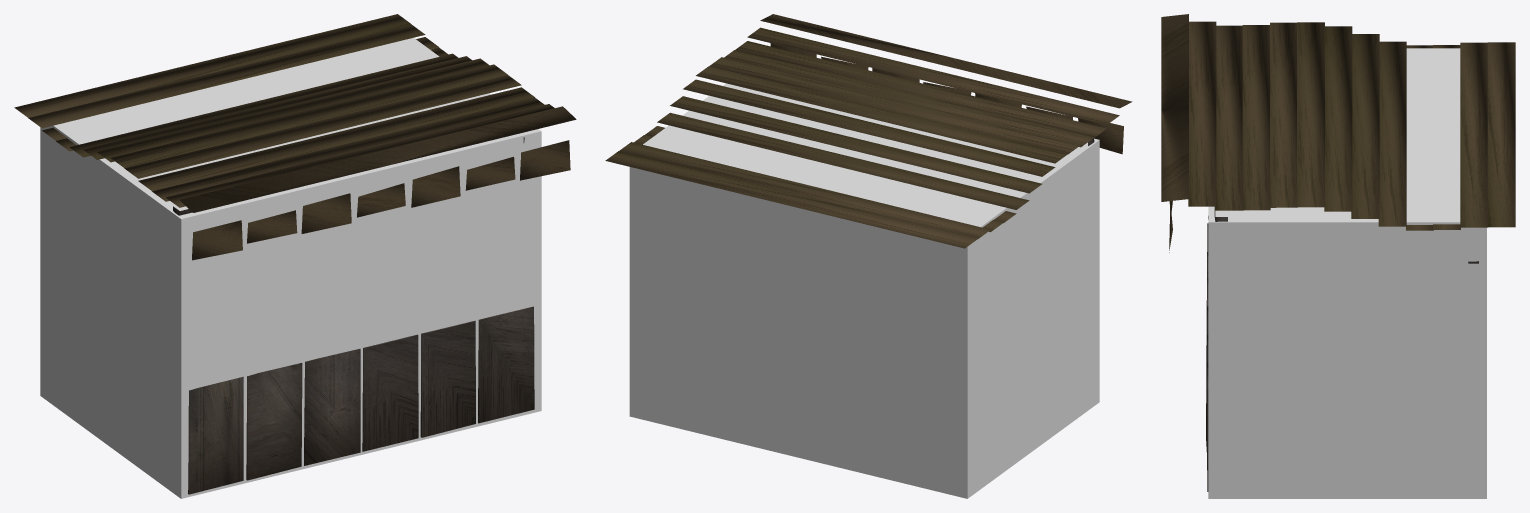
The model's file is prop_market_stall_c_tex.glb.
3 views of the same model, side by side, from view 1: azimuth 30°, elevation 25°; view 2: azimuth 150°, elevation 25°; view 3: azimuth 270°, elevation 25° (orthographic). The views are drawn at different scales.
Visible parts, largest first — view 1: col_stall.002, cloth_awning.002, stall_frame.002; view 2: col_stall.002, cloth_awning.002; view 3: col_stall.002, cloth_awning.002, stall_frame.002.
Part boxes in pixels (x1=…): col_stall.002: x1=40, y1=37, x2=541, y2=498; cloth_awning.002: x1=14, y1=14, x2=576, y2=260; stall_frame.002: x1=173, y1=137, x2=534, y2=494; col_stall.002: x1=629, y1=83, x2=1099, y2=498; cloth_awning.002: x1=605, y1=14, x2=1132, y2=248; col_stall.002: x1=1208, y1=48, x2=1486, y2=498; cloth_awning.002: x1=1161, y1=14, x2=1515, y2=252; stall_frame.002: x1=1206, y1=207, x2=1478, y2=491.
Bounding box in the file's own units: 3.3 × 2.55 × 2.67.
6 materials, 4 textured.
